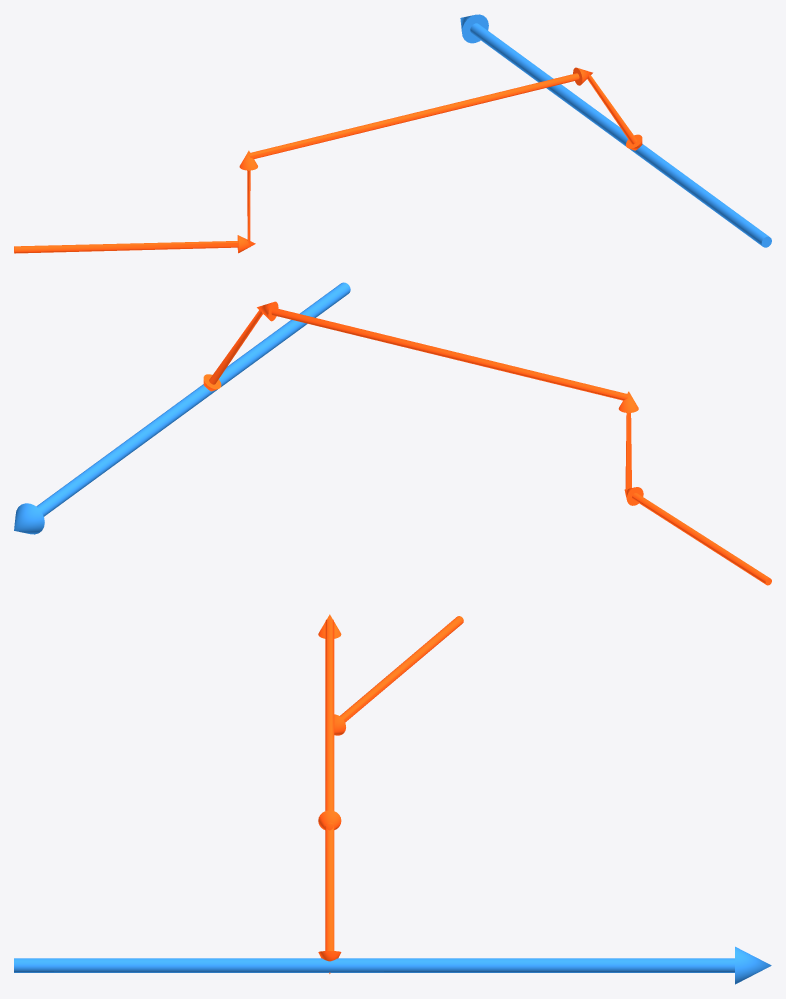
Rendered from chemical_injection_skid_flow.glb.
3 views of the same model, one above another, from view 1: azimuth 30°, elevation 25°; view 2: azimuth 150°, elevation 25°; view 3: azimuth 270°, elevation 25° (orthographic). The views are drawn at different scales.
Visible parts, largest first — view 1: dosing, process; view 2: dosing, process; view 3: process, dosing.
Part boxes in pixels (bbox=[...]): dosing: bbox=[14, 67, 642, 253]; process: bbox=[460, 14, 771, 247]; dosing: bbox=[203, 301, 771, 585]; process: bbox=[14, 282, 350, 534]; process: bbox=[14, 946, 771, 984]; dosing: bbox=[318, 614, 463, 973].
Size of the model in its own units: 2.26 by 0.4032 by 2.04.
